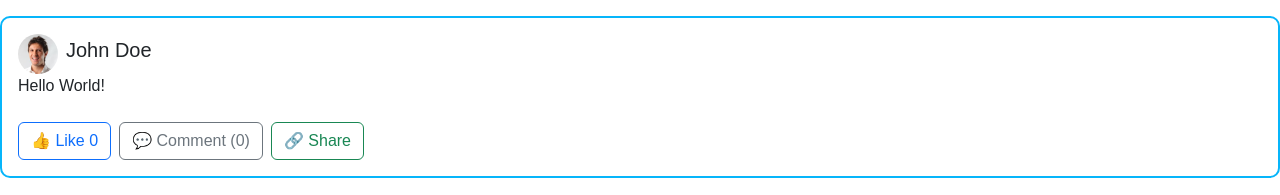
Test: Post Component › increments like count on click
Click the button "👍 Like 0".
click(65, 141)  # box top-left (18, 122), bottom-right (111, 160)
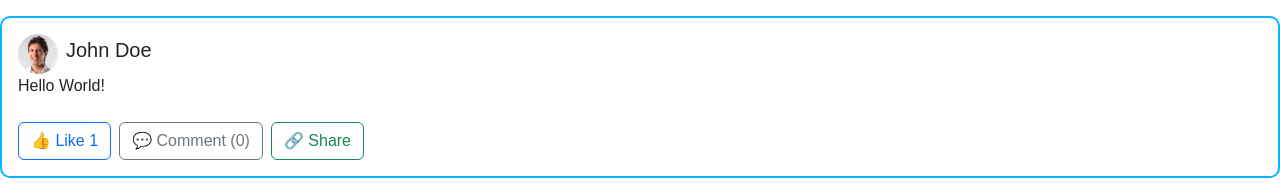
Expected: the button "👍 Like 1" is shown, top-left (18, 122), bottom-right (111, 160)
